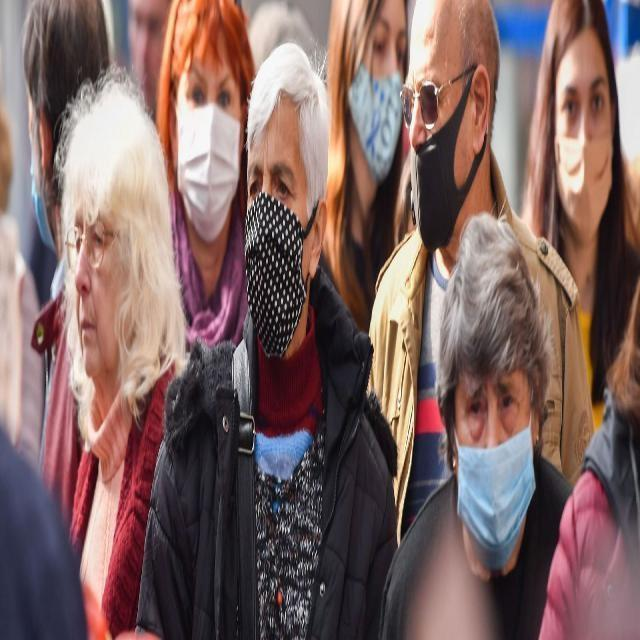hairnet: (398, 42, 500, 260)
